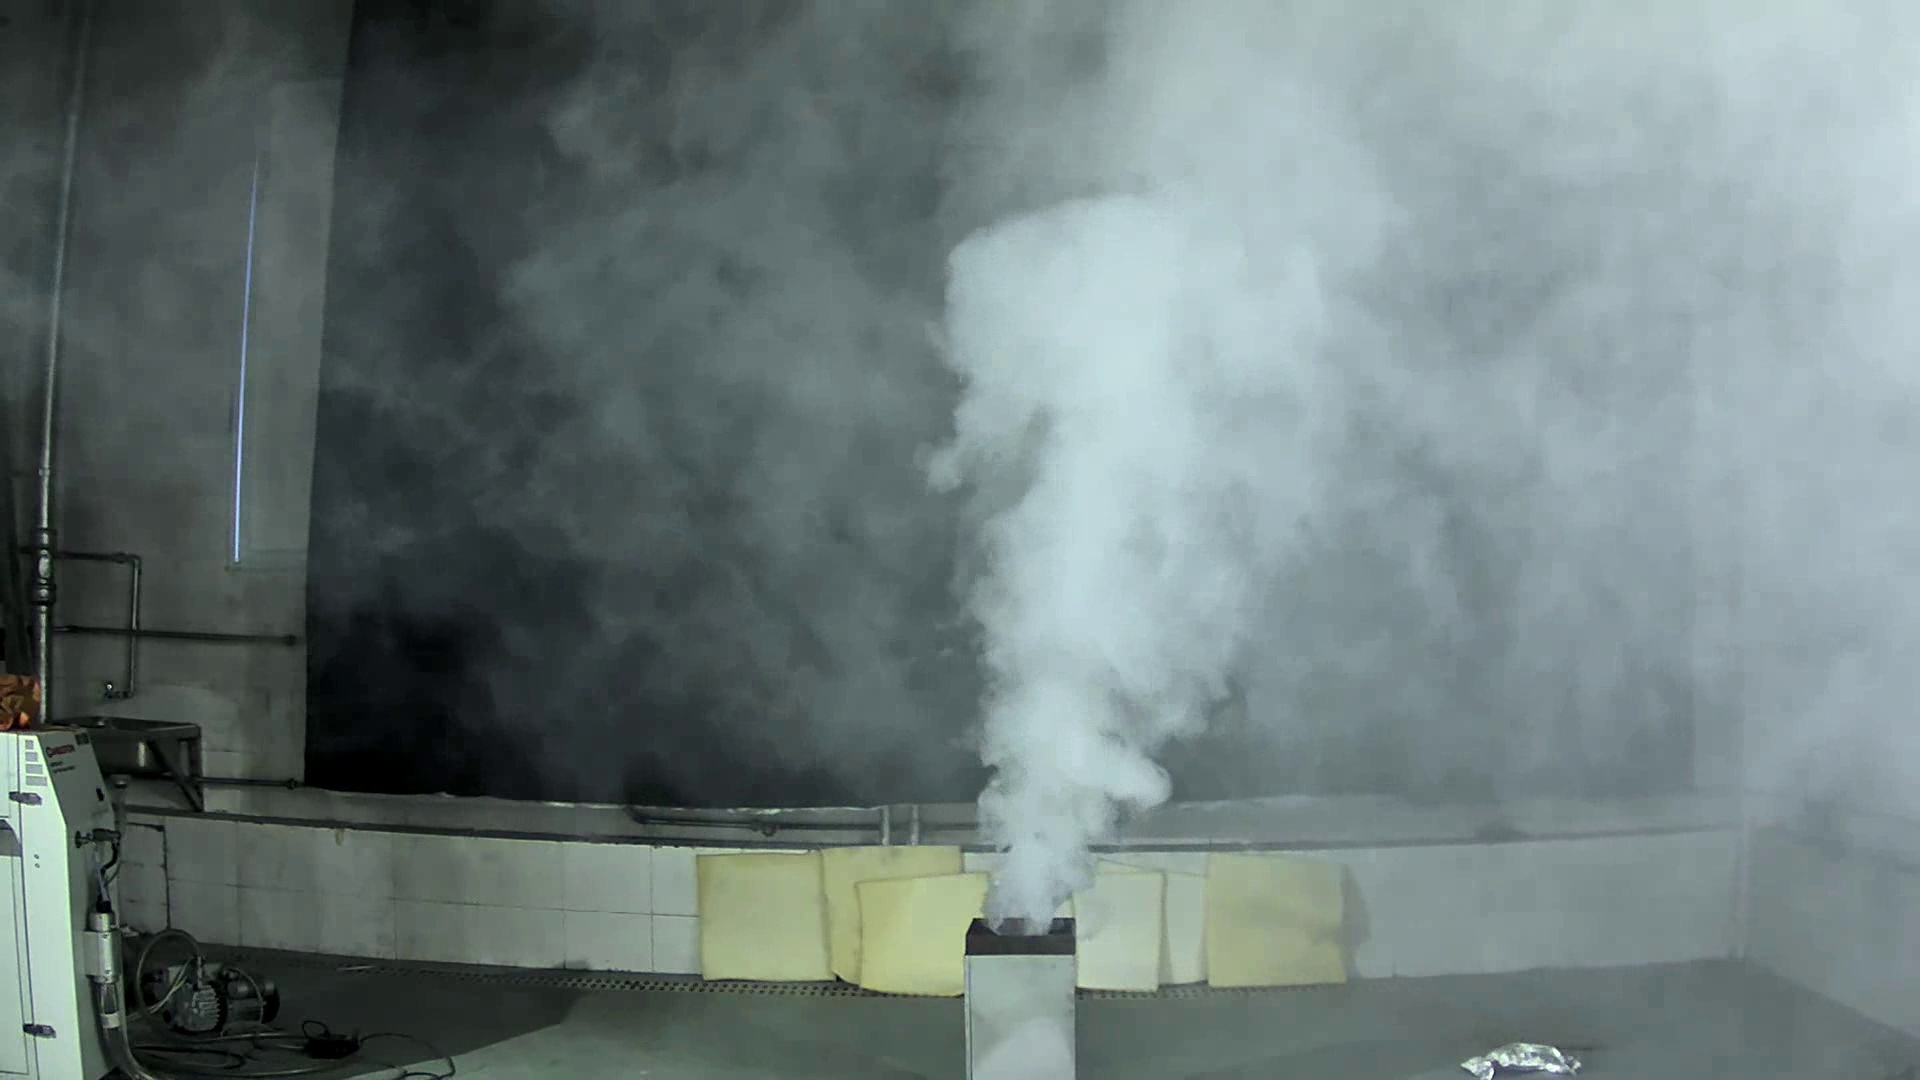smoke: (873, 7, 1883, 930)
